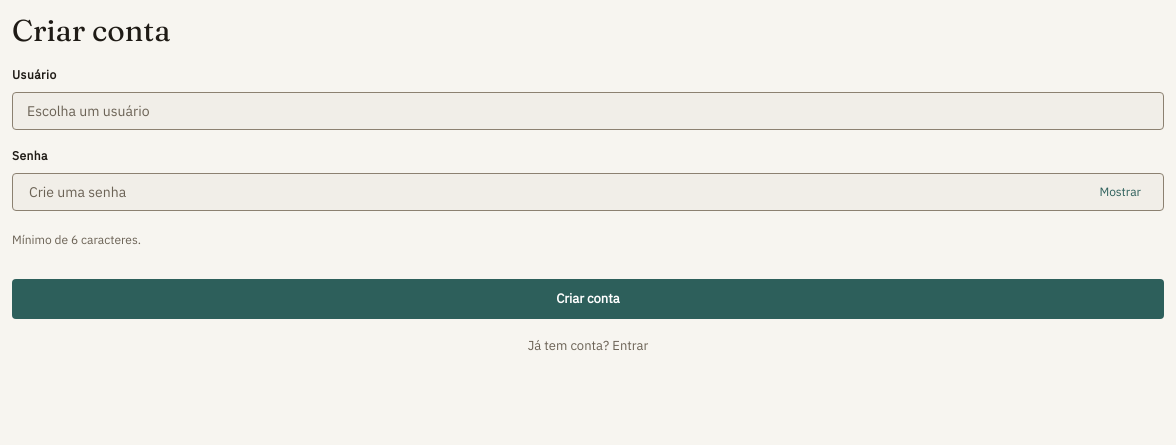
Test case: RegisterForm › shows a username-taken alert on a 409 response
This screenshot has width=1176, height=445.
In the field labelled "Usuário": (588,111) [12, 92, 1164, 130], type "guilherme"
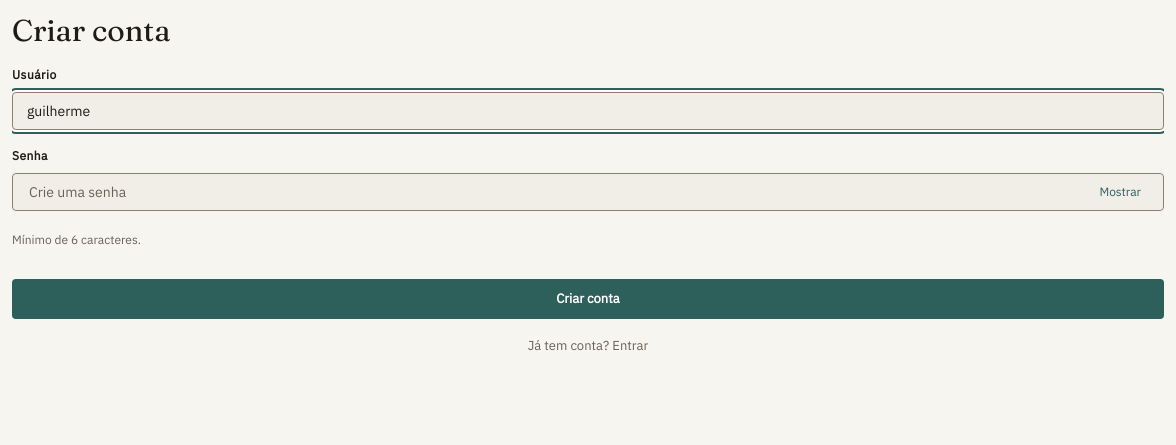
In the password field labelled "Senha": (555,192) [27, 174, 1083, 210], type "segredo123"
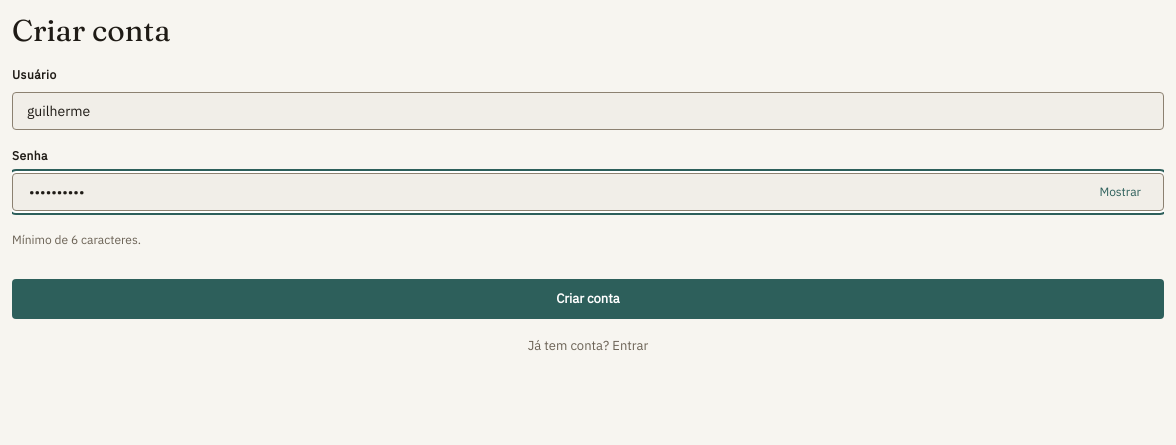
Click the button "Criar conta": (588,299) [12, 279, 1164, 319]
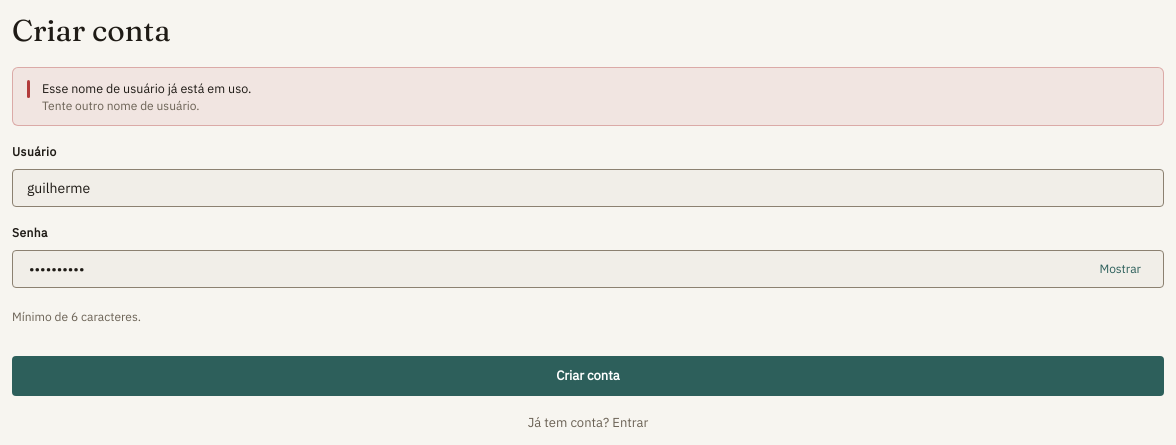
Now the text "Esse nome de usuário já está em uso." is shown, box [42, 80, 251, 96]
